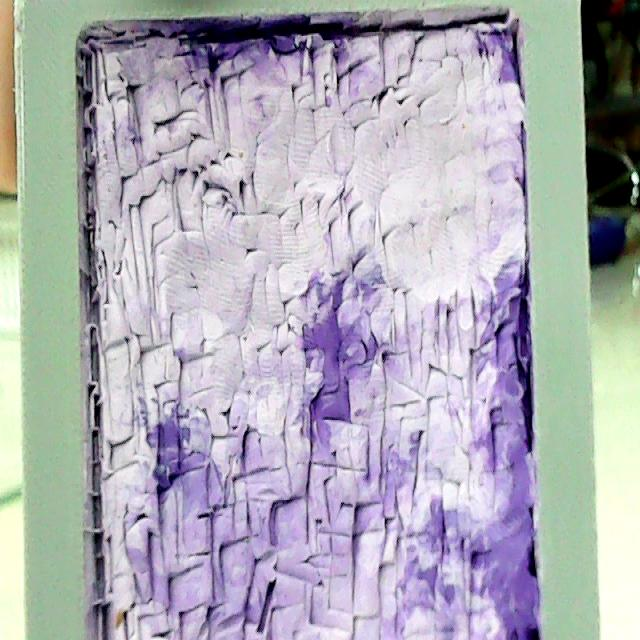block: (0, 0, 602, 631)
